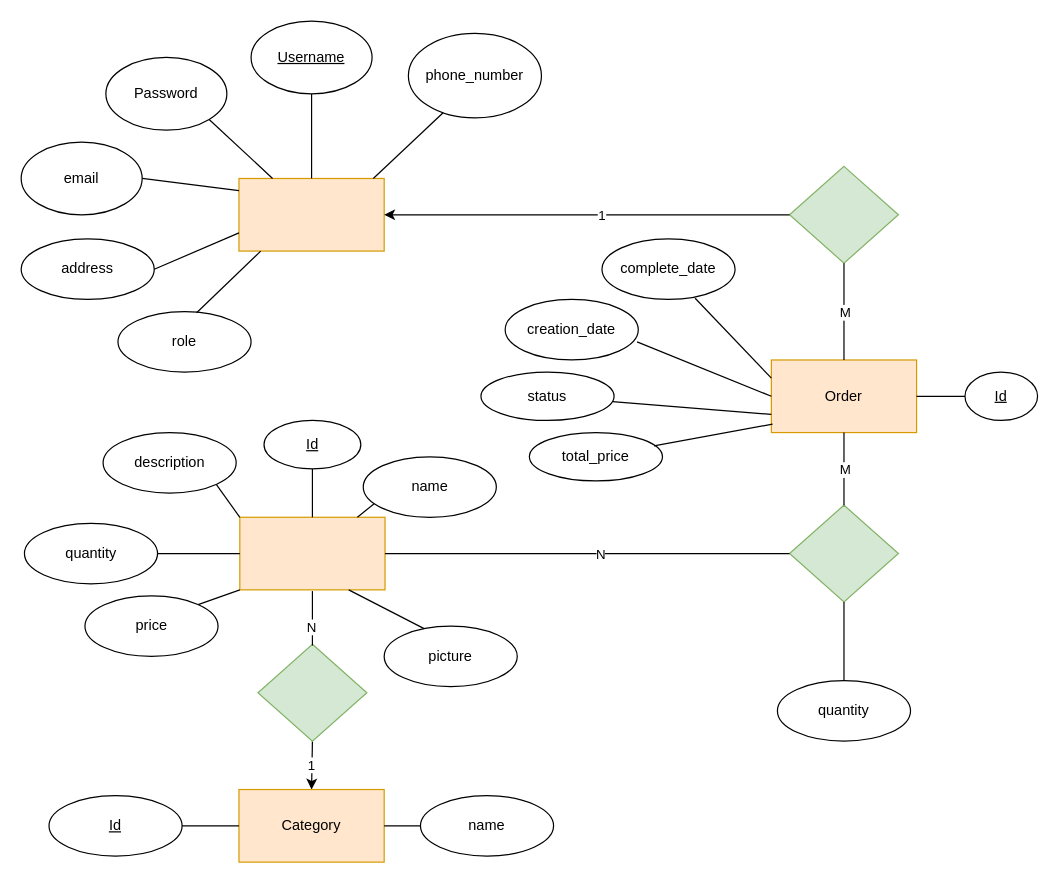
The diagram is 1059 pixels wide and 883 high, and some of its shapes have lost their labels. The shapes that lost their labels are listed below. From the top down, each one's centre as x and y in pixels, then its label:
pixel 311 214: User
pixel 843 214: Orders
pixel 312 553: Product
pixel 843 553: Cart
pixel 312 692: Product's Category
